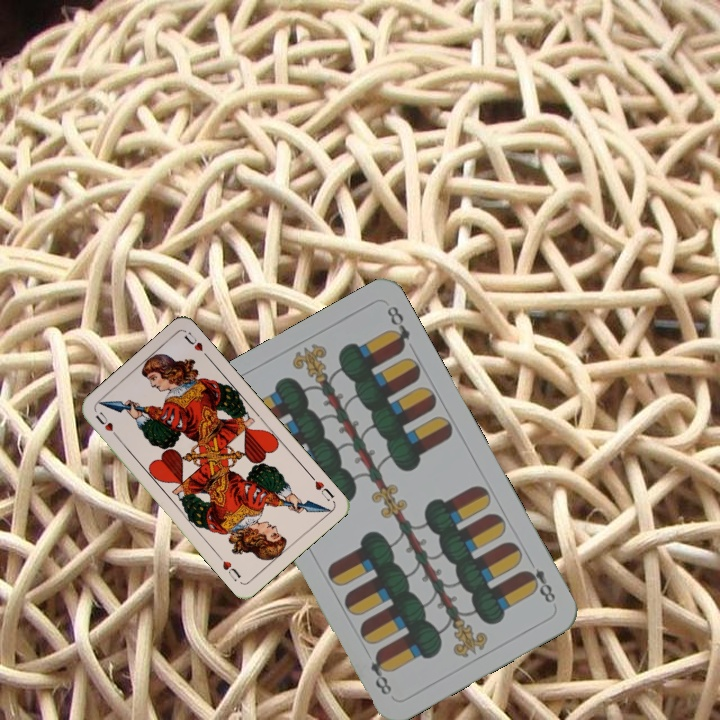E8: (520, 554, 558, 606)
HU: (306, 471, 337, 504), (91, 408, 122, 441)
